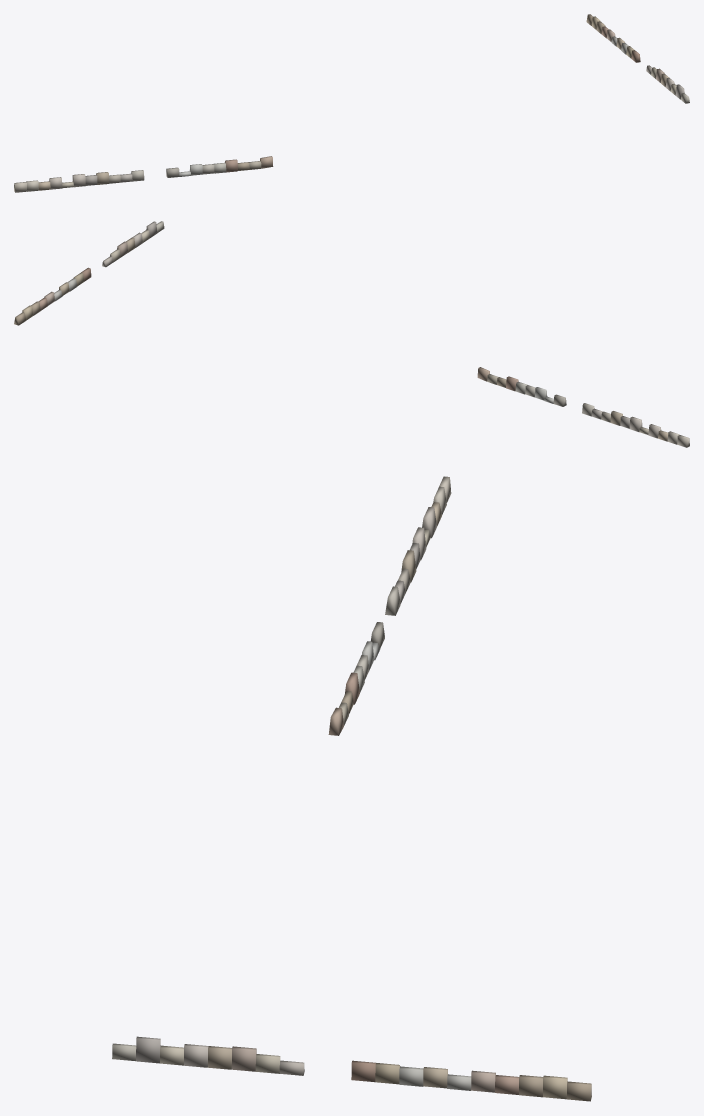
Rendered from farm_1_18_collision.glb.
3 renders of one model, top to bottom at view 1: azimuth 30°, elevation 25°; view 2: azimuth 150°, elevation 25°; view 3: azimuth 270°, elevation 25°, orthographic. The views are drawn at different scales.
Visible parts, largest first — view 1: geometry_0; view 2: geometry_0; view 3: geometry_0.
Part boxes in pixels (x1,y1,x2,y2): geometry_0: (14,14,689,192); geometry_0: (14,221,689,447); geometry_0: (112,476,591,1101).
Bounding box in the file's own units: 90.89 × 3.61 × 30.78.
